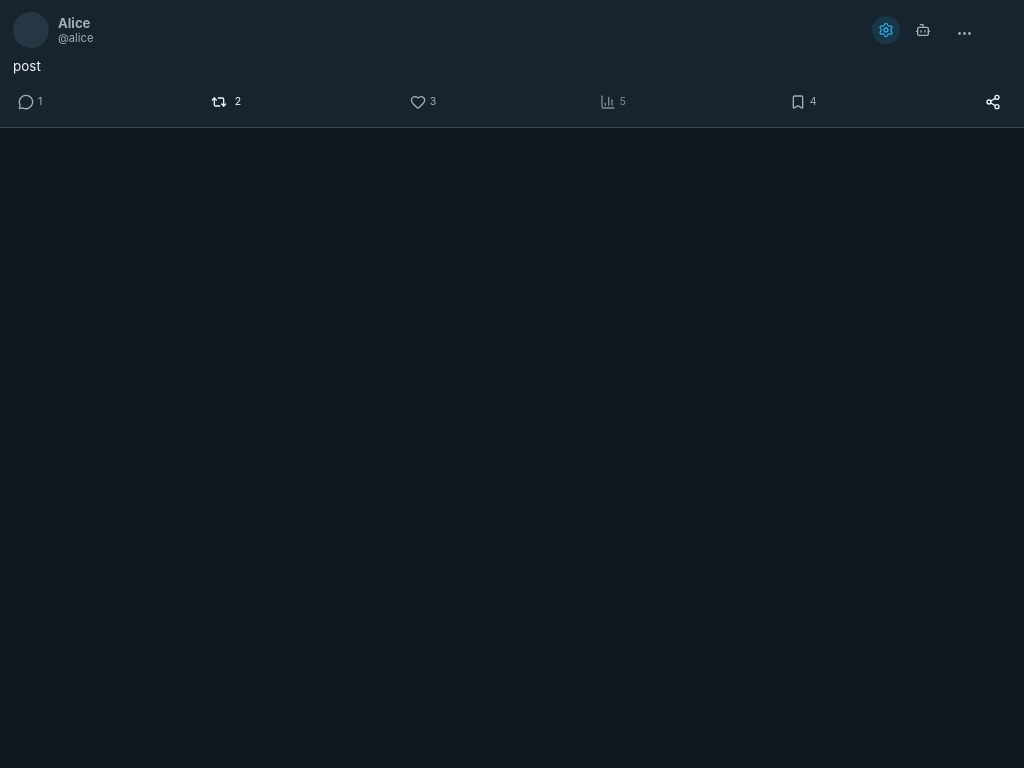
it: post actions › opens reply composer and the complete overflow menu
The width and height of the screenshot is (1024, 768).
Step 1. Click the button named "返信" → click(30, 102), box top-left (13, 87), bottom-right (47, 117)
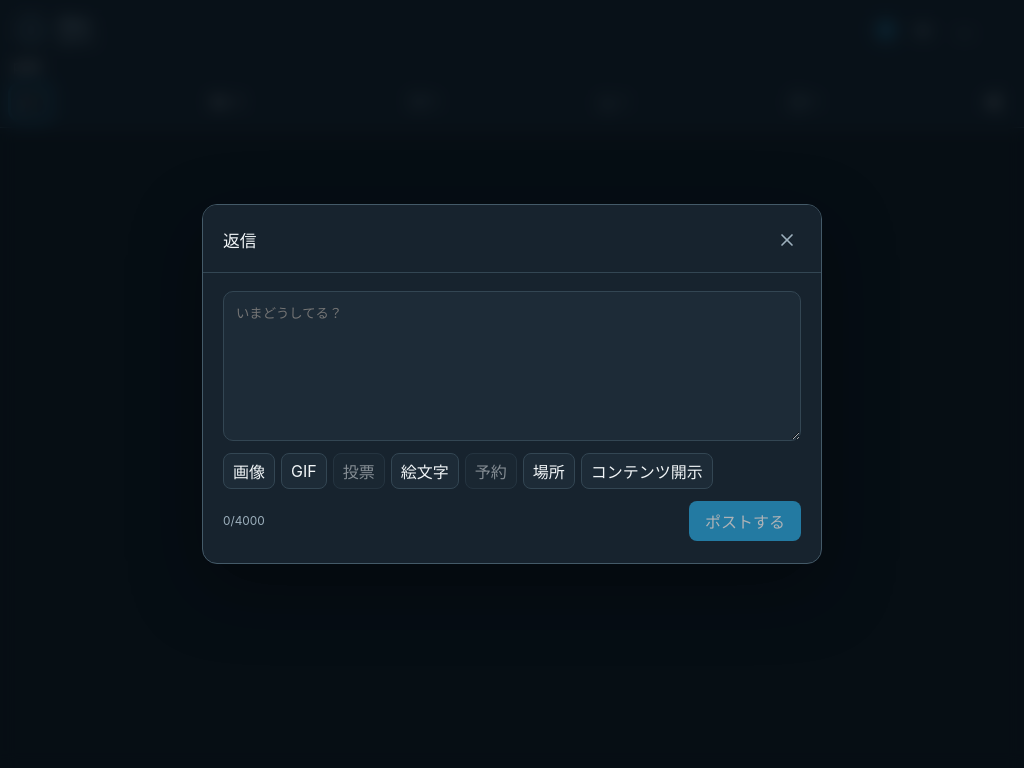
Expected: the heading "返信" is shown, top-left (223, 228), bottom-right (257, 252)
Step 2. Click the button named "閉じる" → click(786, 240), box top-left (769, 222), bottom-right (804, 257)
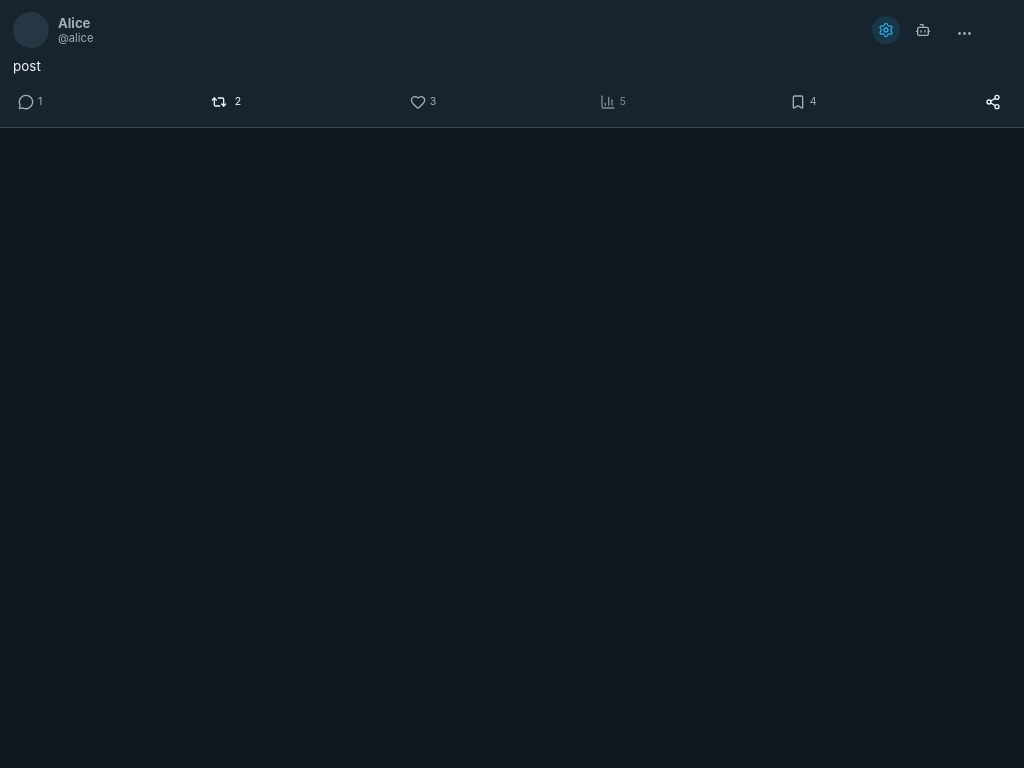
Step 3. Click the button named "ポストメニュー" → click(960, 30), box top-left (946, 16), bottom-right (974, 44)
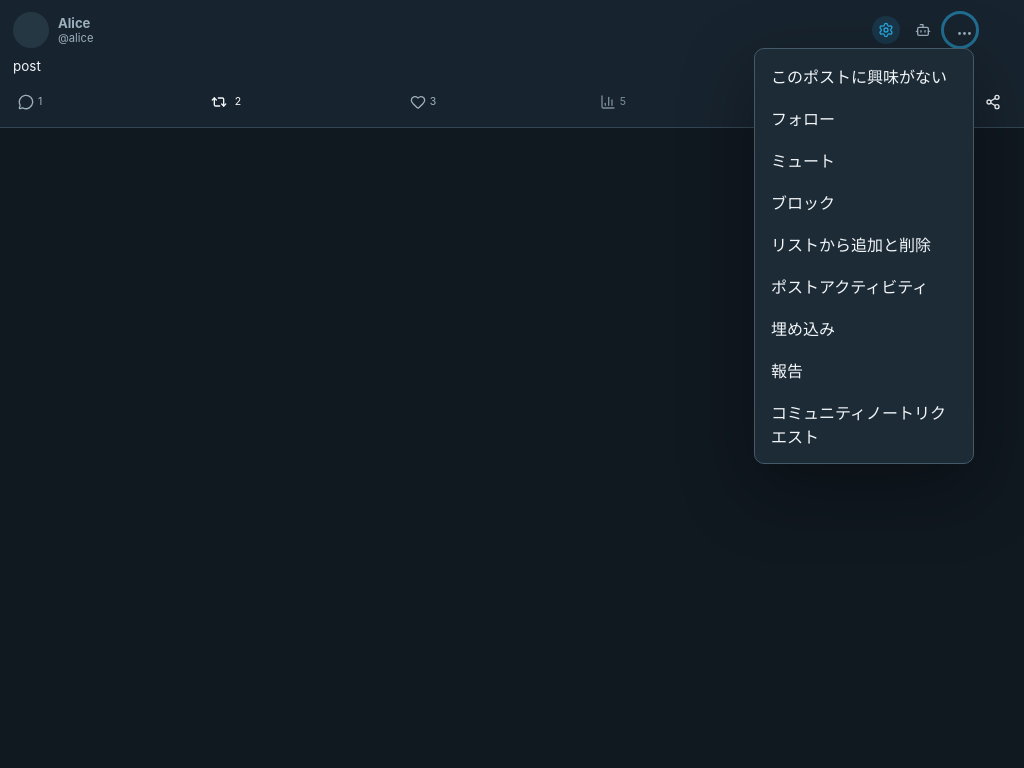
Expected: the menu is shown, top-left (754, 48), bottom-right (974, 464)
Expected: the menu item "このポストに興味がない" is shown, top-left (761, 55), bottom-right (967, 97)
Expected: the menu item "コミュニティノートリクエスト" is shown, top-left (771, 403), bottom-right (946, 447)
Step 4. Press Escape
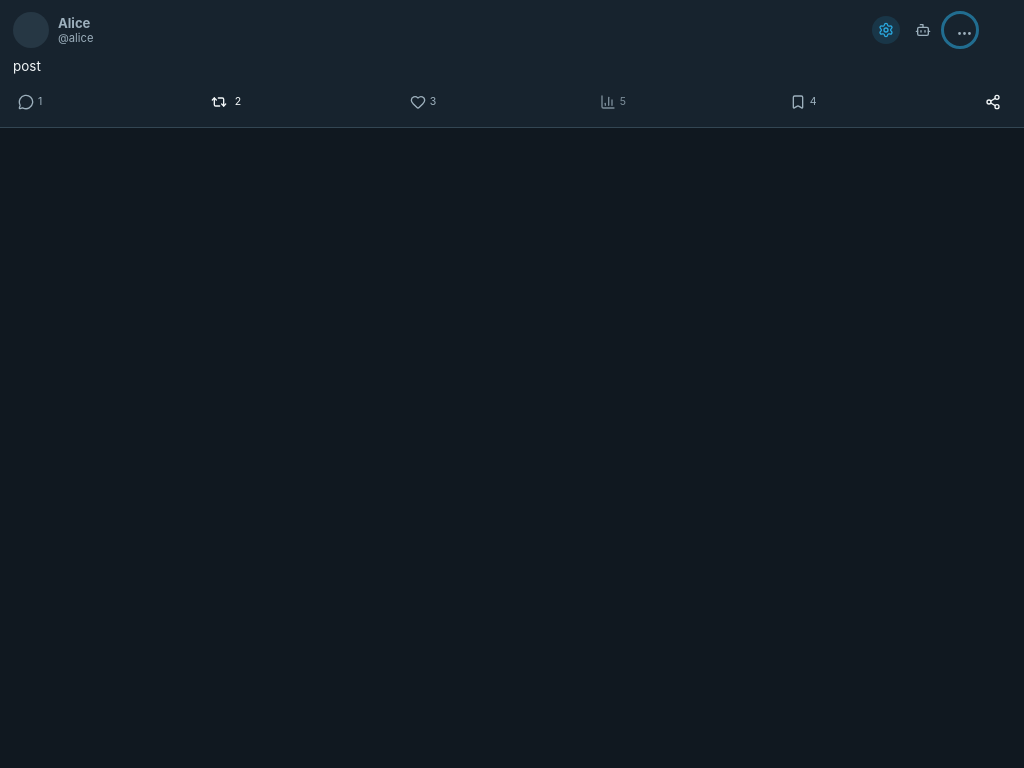
Expected: the menu item "このポストに興味がない" is gone
